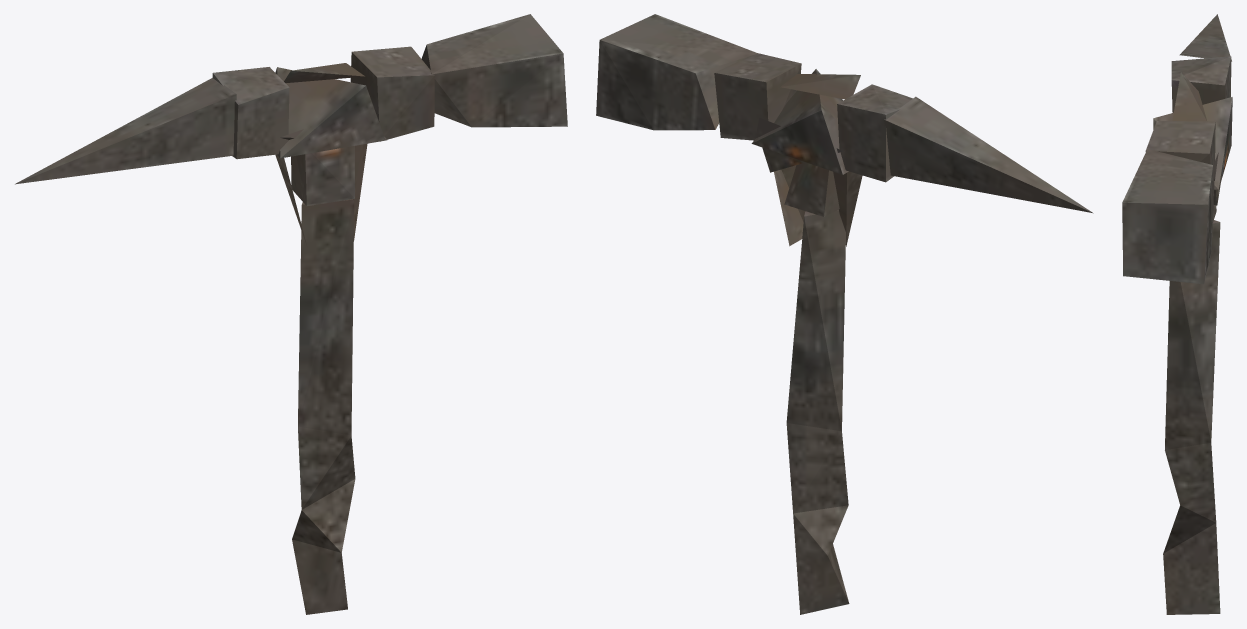
The model's file is prop.pickaxe.lod.glb.
3 views of the same model, side by side, from view 1: azimuth 30°, elevation 25°; view 2: azimuth 150°, elevation 25°; view 3: azimuth 270°, elevation 25° (orthographic). The views are drawn at different scales.
Parts seen in each view (by area): view 1: body; view 2: body; view 3: body.
Boxes of the visible parts, box(x1,y1,x2,y2) form: body: box(15, 14, 567, 614); body: box(596, 14, 1093, 614); body: box(1122, 14, 1232, 614).
Bounding box in the file's own units: 0.4337 × 0.4395 × 0.0842.
1 material, 1 textured.
